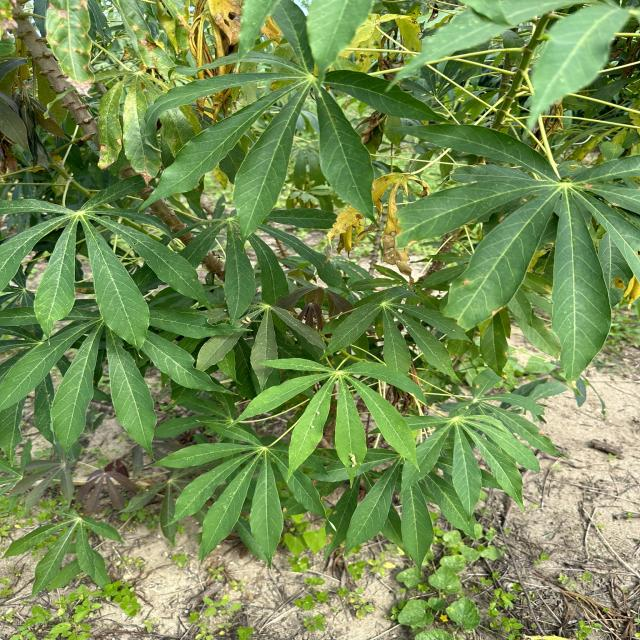Mosaico: (332, 163, 428, 256), (186, 1, 249, 121), (332, 0, 418, 68)
Mosca: (312, 402, 325, 420), (346, 449, 357, 469), (240, 313, 253, 329), (306, 421, 322, 431), (470, 384, 487, 393), (460, 401, 472, 413)
